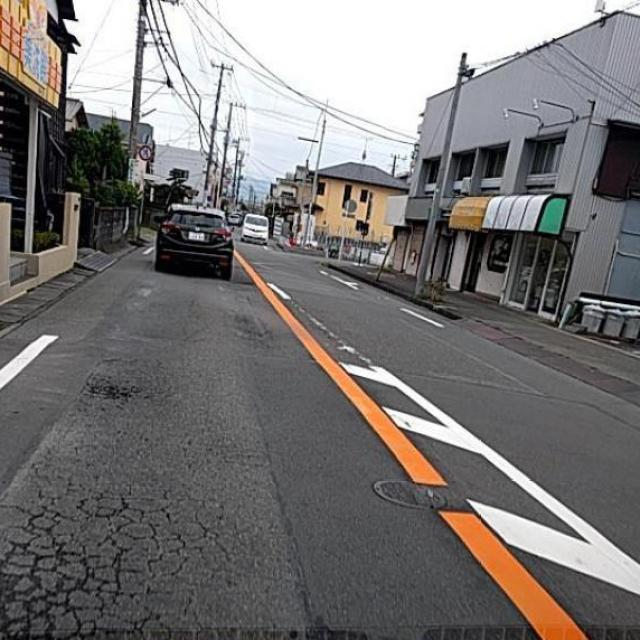Retak Buaya: (0, 482, 257, 640)
